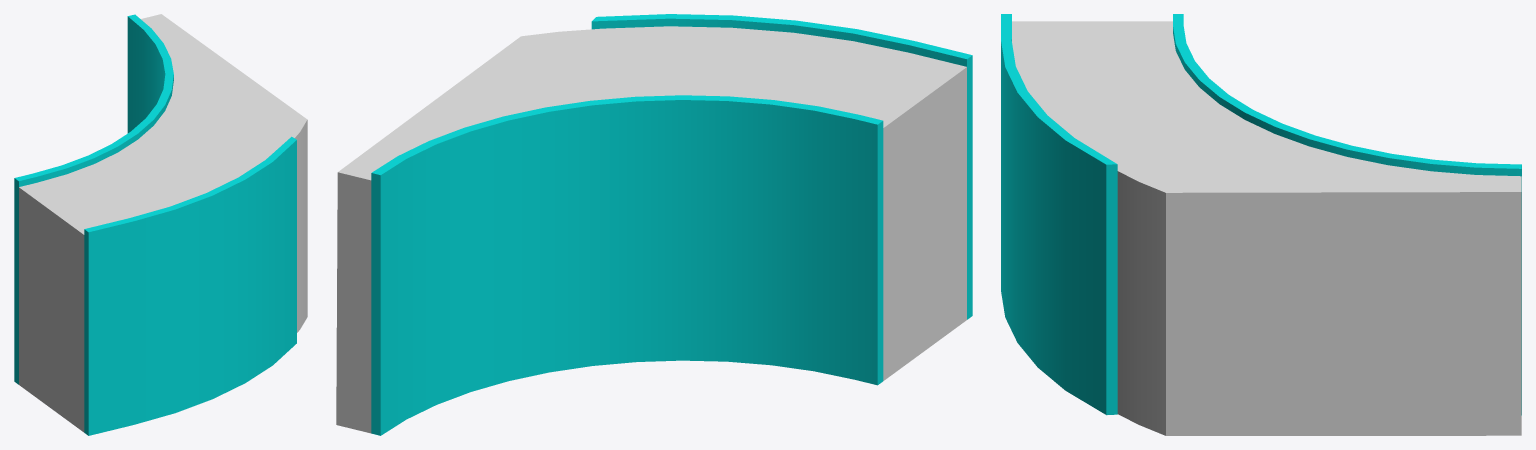
Rendered from HalfLeftRight2.fbx.
3 views of the same model, side by side, from view 1: azimuth 30°, elevation 25°; view 2: azimuth 150°, elevation 25°; view 3: azimuth 270°, elevation 25° (orthographic). The views are drawn at different scales.
Visible parts, largest first — view 1: pCube40; view 2: pCube40; view 3: pCube40.
Part boxes in pixels (x1=…): pCube40: x1=14, y1=14, x2=307, y2=435; pCube40: x1=336, y1=14, x2=972, y2=435; pCube40: x1=1001, y1=14, x2=1521, y2=435.
Size of the model in its own units: 75.66 by 51.5 by 97.07.
